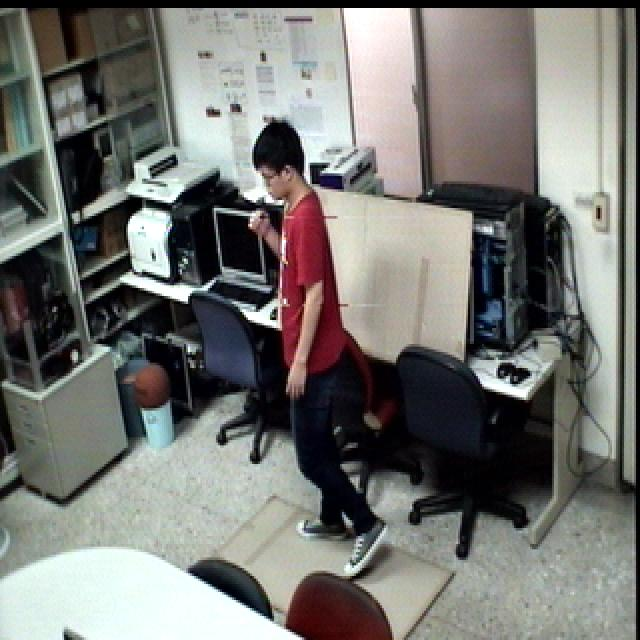stand: (239, 119, 394, 588)
